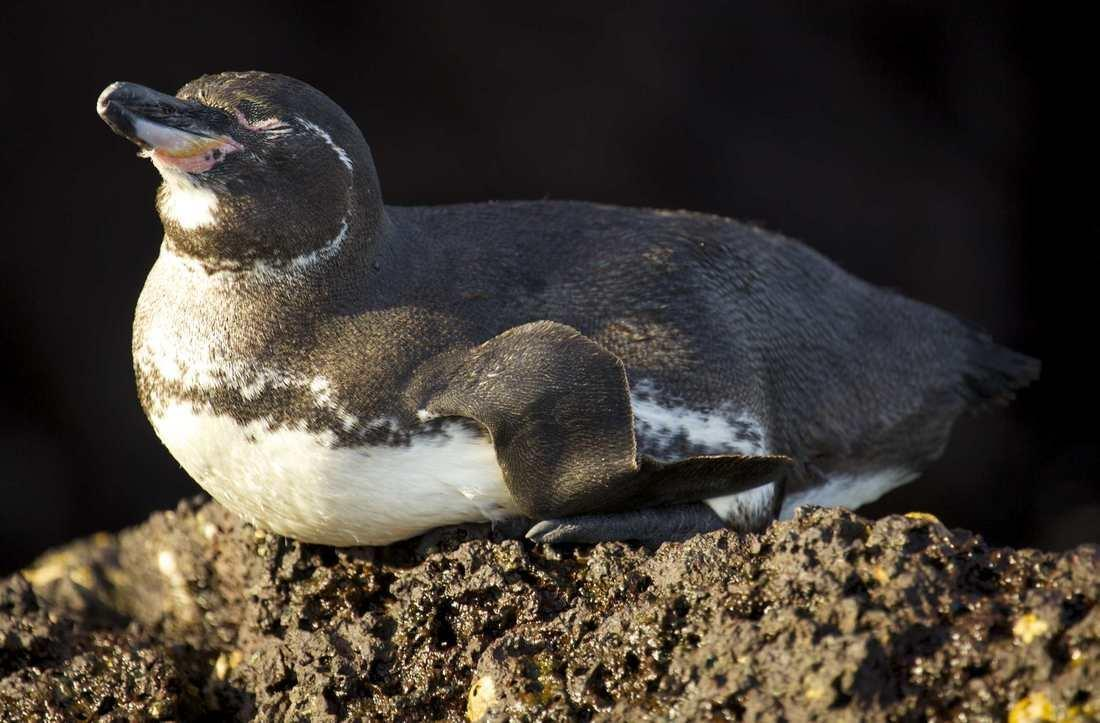Penguin: (97, 71, 1038, 544)
